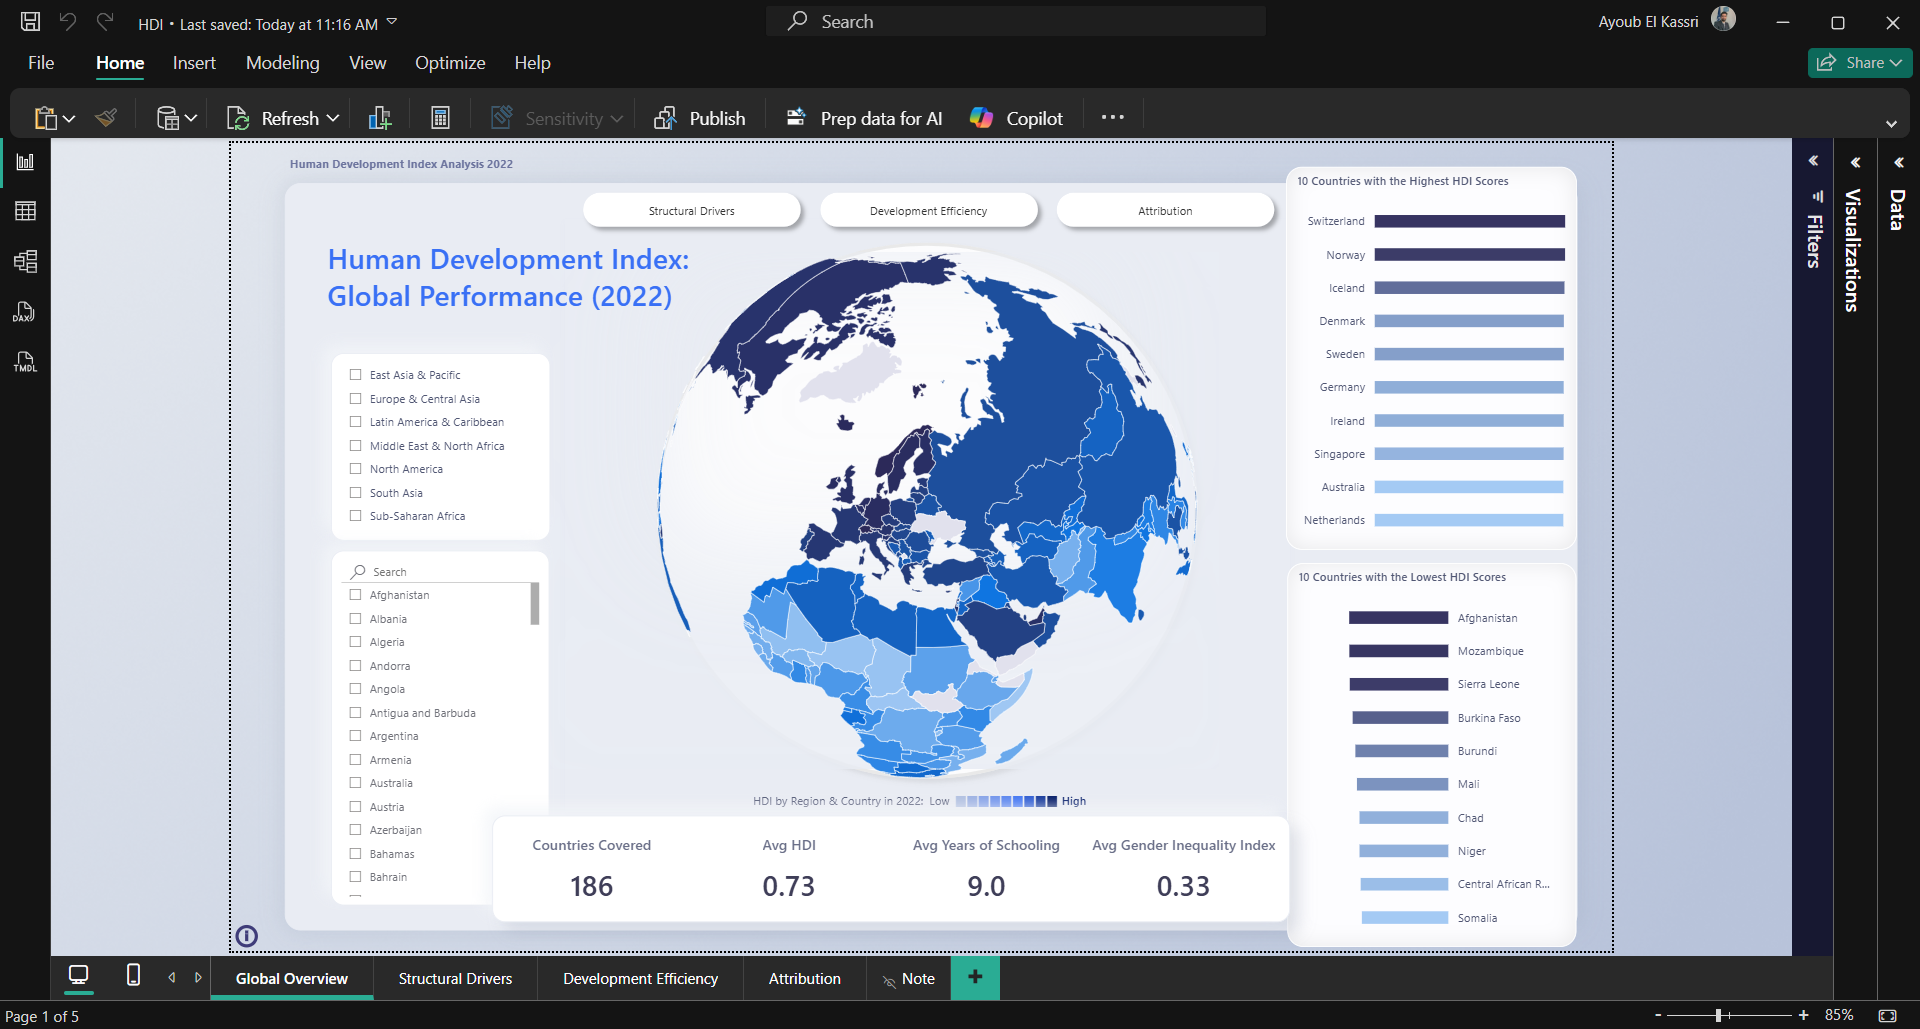

The dashboard page shown, as its layout file describes it:
{"tool":"powerbi","page":{"name":"Global Overview","canvas":[1295,758],"ordinal":0},"visuals":[{"type":"shape","box":[50.2,37.7,1211.9,700.8],"z":0},{"type":"shape","box":[244.9,630.6,748,100.2],"z":0,"group":"g5"},{"type":"group","id":"g1","title":"Map","box":[299,71.7,693.9,556],"z":1000},{"type":"shape","box":[244.9,630.6,748,100.2],"z":1000,"group":"g5"},{"type":"slicer","fields":{"Values":["hdi hdi_master.region"]},"box":[94.1,196.5,205.9,176.2],"z":1500,"group":"g3"},{"type":"slicer","fields":{"Values":["hdi hdi_master.country"]},"box":[94.1,382.3,204.7,332.9],"z":1500,"group":"g4"},{"type":"cardVisual","fields":{"Data":["Count(hdi hdi_master.country)","Avg(hdi hdi_master.hdi)","Avg(hdi hdi_master.mean_years_schooling)","Avg(hdi hdi_master.gii)"]},"box":[244.9,639.9,744.6,81.7],"z":1500,"group":"g5"},{"type":"group","id":"g2","title":"Layer","box":[86,84.8,374.4,96.6],"z":2000},{"type":"textbox","box":[86,84.8,374.4,96.6],"z":2000,"group":"g2"},{"type":"textbox","box":[50.2,7.5,275,30.1],"z":3000},{"type":"shape","box":[389,84.3,526.4,520.8],"z":3250,"group":"g1"},{"type":"textbox","box":[481.4,603.9,343.5,49.3],"z":4000},{"type":"group","id":"g3","title":"Slicer","box":[94.1,196.5,204.7,176.5],"z":5000},{"type":"group","id":"g4","title":"Slicer","box":[94.1,382.3,204.7,332.9],"z":6000},{"type":"clusteredBarChart","title":"10 Countries with the Highest HDI Scores","fields":{"Y":["Avg(hdi_master.hdi)"],"Category":["hdi_master.country"]},"box":[989.1,22.4,273.2,359.1],"z":7000},{"type":"clusteredBarChart","title":"10 Countries with the Lowest HDI Scores","fields":{"Category":["hdi_master.country"],"Y":["Avg(hdi_master.hdi)"]},"box":[990.3,393.3,270.8,360.3],"z":8000},{"type":"actionButton","box":[0,728.9,29.4,29.4],"z":9000},{"type":"group","id":"g5","title":"Indicators","box":[244.9,630.6,748.8,99.9],"z":10000},{"type":"pageNavigator","box":[321.5,37.7,668.8,50.6],"z":11000},{"type":"shape","box":[299,102.5,627,485.2],"z":12001,"group":"g1"},{"type":"shapeMap","fields":{"Category":["hdi hdi_master.country_code"],"Value":["Sum(hdi_master.hdi)"]},"box":[313,71.7,679.9,556],"z":12501,"group":"g1"}]}

Visuals, with their boxes on the page's 1295x758 design canvas (x1, y1, x2, y2). These are canvas units, not pixel positions in the 1920x1029 screenshot, which may show the page scaled, cropped or inside an application window:
shape: 50/38/1262/738
shape: 245/631/993/731
"Map" group: 299/72/993/628
shape: 245/631/993/731
slicer - hdi hdi_master.region: 94/196/300/373
slicer - hdi hdi_master.country: 94/382/299/715
cardVisual - Count(hdi hdi_master.country) x Avg(hdi hdi_master.hdi): 245/640/990/722
"Layer" group: 86/85/460/181
textbox: 86/85/460/181
textbox: 50/8/325/38
shape: 389/84/915/605
textbox: 481/604/825/653
"Slicer" group: 94/196/299/373
"Slicer" group: 94/382/299/715
"10 Countries with the Highest HDI Scores" clusteredBarChart: 989/22/1262/382
"10 Countries with the Lowest HDI Scores" clusteredBarChart: 990/393/1261/754
actionButton: 0/729/29/758
"Indicators" group: 245/631/994/730
pageNavigator: 322/38/990/88
shape: 299/102/926/588
shapeMap - hdi hdi_master.country_code x Sum(hdi_master.hdi): 313/72/993/628
